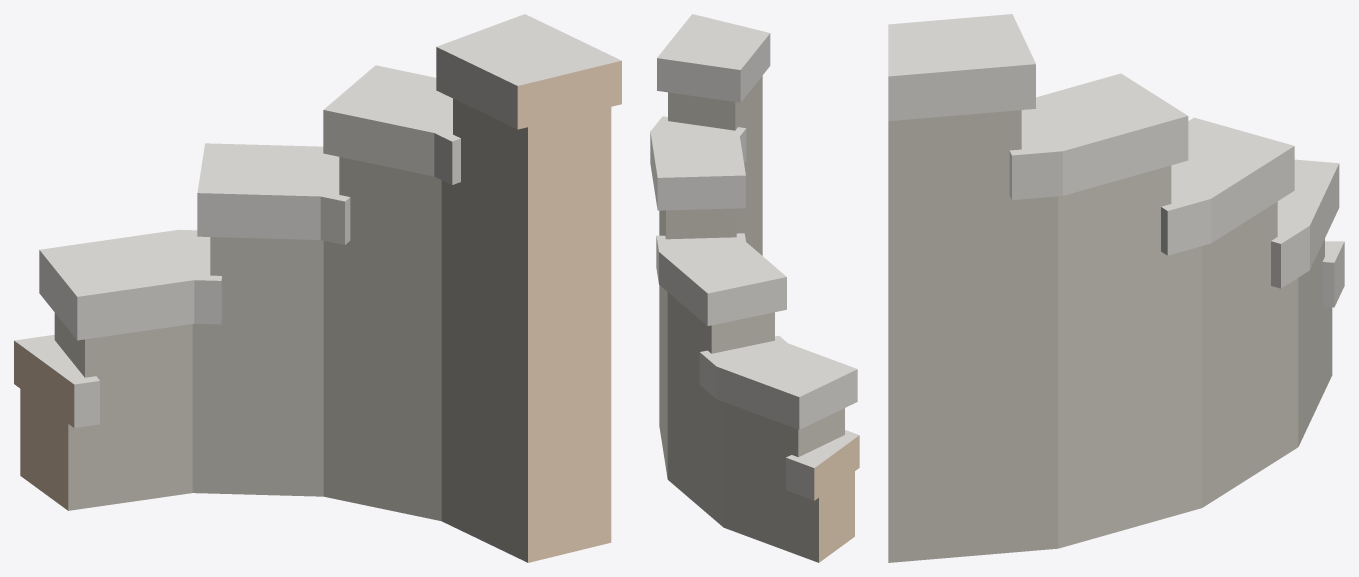
File: Tiered_Retaining_Wall_Stepped_Curve_Short_1x1.glb
3 views of the same model, side by side, from view 1: azimuth 30°, elevation 25°; view 2: azimuth 150°, elevation 25°; view 3: azimuth 270°, elevation 25° (orthographic). The views are drawn at different scales.
Visible parts, largest first — view 1: Tiered_Retaining_Wall_Stepped_Curve_Short_1x1; view 2: Tiered_Retaining_Wall_Stepped_Curve_Short_1x1; view 3: Tiered_Retaining_Wall_Stepped_Curve_Short_1x1.
Boxes of the visible parts, x1,y1,x2,y2 form: Tiered_Retaining_Wall_Stepped_Curve_Short_1x1: (14,14,621,562); Tiered_Retaining_Wall_Stepped_Curve_Short_1x1: (650,14,859,562); Tiered_Retaining_Wall_Stepped_Curve_Short_1x1: (888,14,1344,562).
Size of the model in its own units: 116 by 138 by 116.
